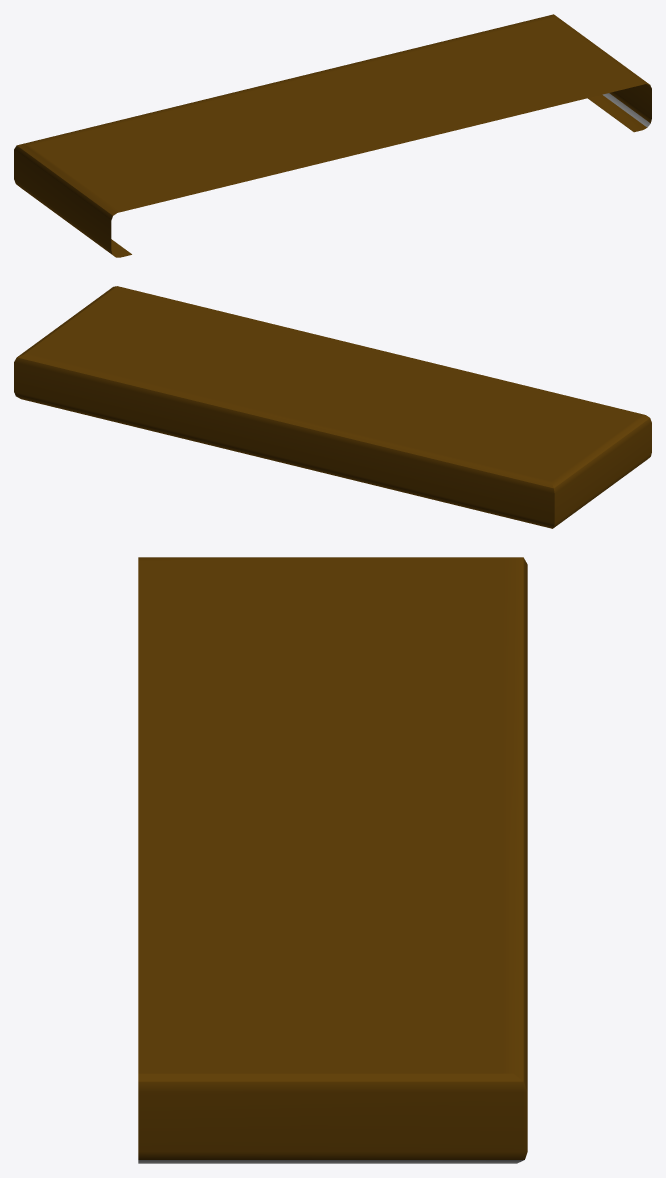
File: Wooden_dock.fbx
3 renders of one model, top to bottom at view 1: azimuth 30°, elevation 25°; view 2: azimuth 150°, elevation 25°; view 3: azimuth 270°, elevation 25°, orthographic. The views are drawn at different scales.
Visible parts, largest first — view 1: polySurface7; view 2: polySurface7; view 3: polySurface7.
Part boxes in pixels (left/top/right/bottom): polySurface7: left=14, top=14, right=651, bottom=257; polySurface7: left=14, top=286, right=651, bottom=528; polySurface7: left=138, top=557, right=527, bottom=1163.
Size of the model in its own units: 2.45 by 0.1964 by 0.7634.
